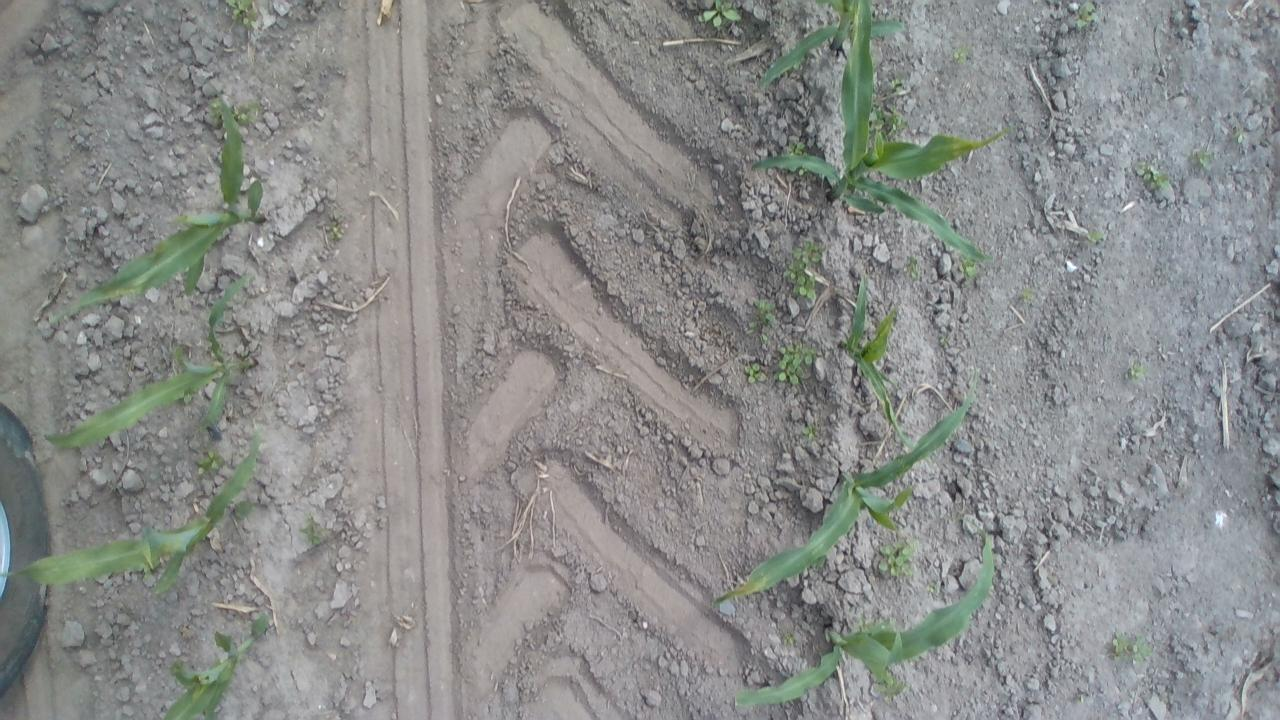Maize: (751, 0, 1012, 276), (704, 366, 984, 614), (43, 96, 279, 322), (726, 532, 1002, 710), (0, 425, 274, 598), (42, 273, 260, 455), (836, 276, 924, 455), (750, 4, 909, 97), (159, 610, 274, 720)
Weeds: (783, 236, 823, 312), (868, 82, 910, 142), (775, 342, 816, 388), (876, 540, 919, 582), (1109, 630, 1158, 664), (696, 0, 749, 29), (204, 97, 260, 124), (1133, 158, 1172, 194), (294, 511, 334, 546), (324, 204, 356, 244), (742, 298, 781, 328), (223, 0, 262, 30), (874, 667, 908, 701), (195, 447, 232, 478), (1072, 0, 1102, 32), (899, 254, 922, 287), (743, 360, 769, 388), (956, 252, 980, 282), (1226, 121, 1251, 148), (1082, 224, 1110, 248), (1122, 358, 1146, 382), (952, 43, 974, 67), (1192, 147, 1214, 169), (923, 578, 945, 599), (1020, 284, 1042, 304), (781, 141, 804, 160), (800, 419, 817, 444), (779, 631, 803, 648), (936, 330, 954, 350)
